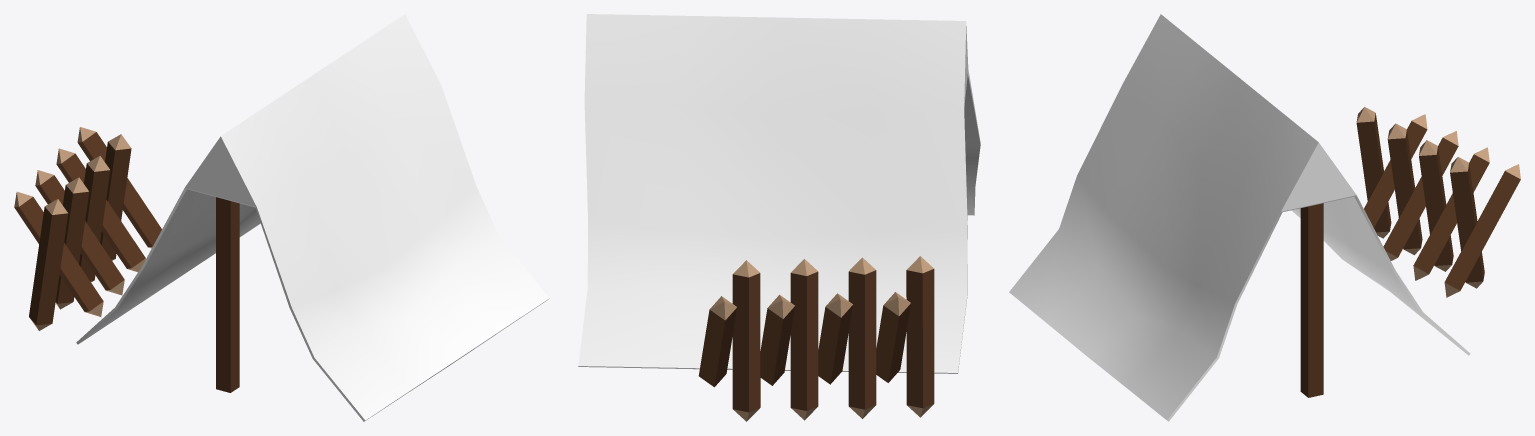
File: Camp.fbx
3 renders of one model, left to right at view 1: azimuth 30°, elevation 25°; view 2: azimuth 150°, elevation 25°; view 3: azimuth 270°, elevation 25°, orthographic. The views are drawn at different scales.
Visible parts, largest first — view 1: Camp 1; view 2: Camp 1; view 3: Camp 1.
Part boxes in pixels (<box>): Camp 1: <box>14,14,549,421</box>; Camp 1: <box>578,14,980,421</box>; Camp 1: <box>1009,14,1520,421</box>.
Bounding box in the file's own units: 0.8546 × 0.5169 × 0.9264.
